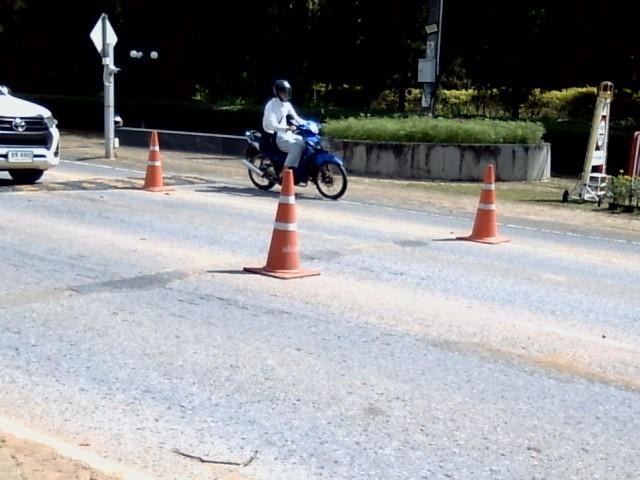helmet: (273, 78, 290, 101)
motor: (294, 119, 346, 198), (242, 130, 285, 189)
person: (262, 80, 304, 169)
